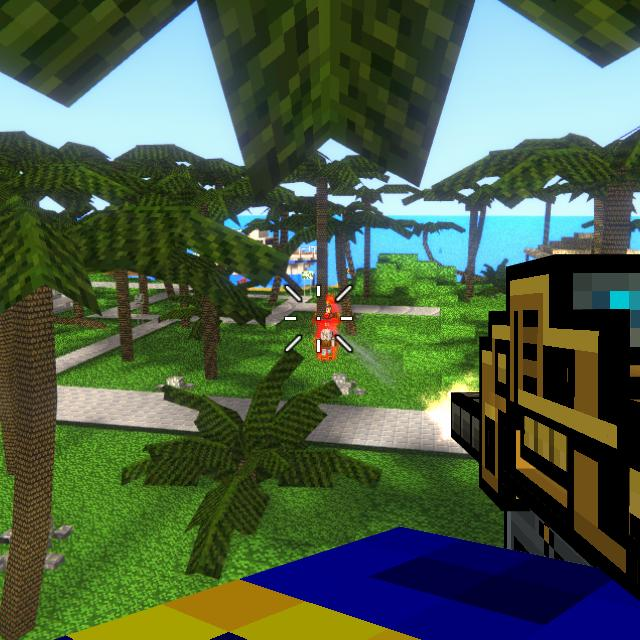Enemy: (316, 329, 336, 361)
